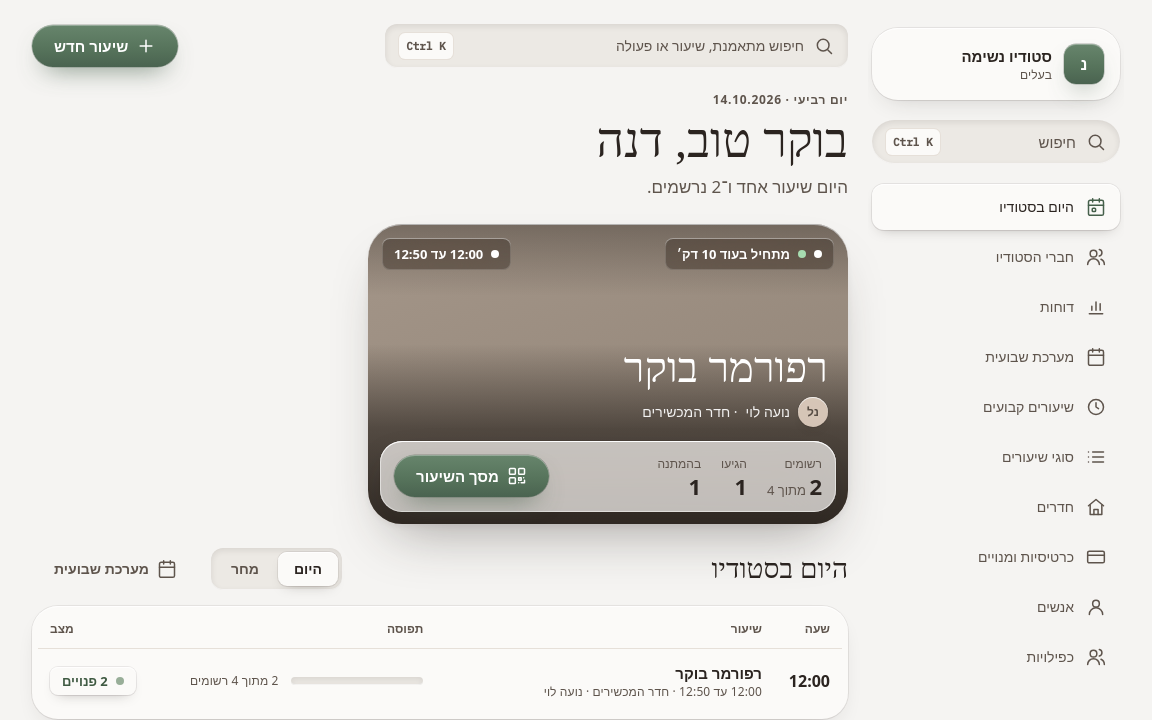
OwnerLive, the class on a screen of its own (LV-1, #378 item 2) › opens from today's live class: the clock, who came in out of who booked, and the scan at hand
This screenshot has width=1152, height=720.
Step 1. Click the link "מסך השיעור" → {"x": 472, "y": 476}, box left=394, top=455, right=549, bottom=497
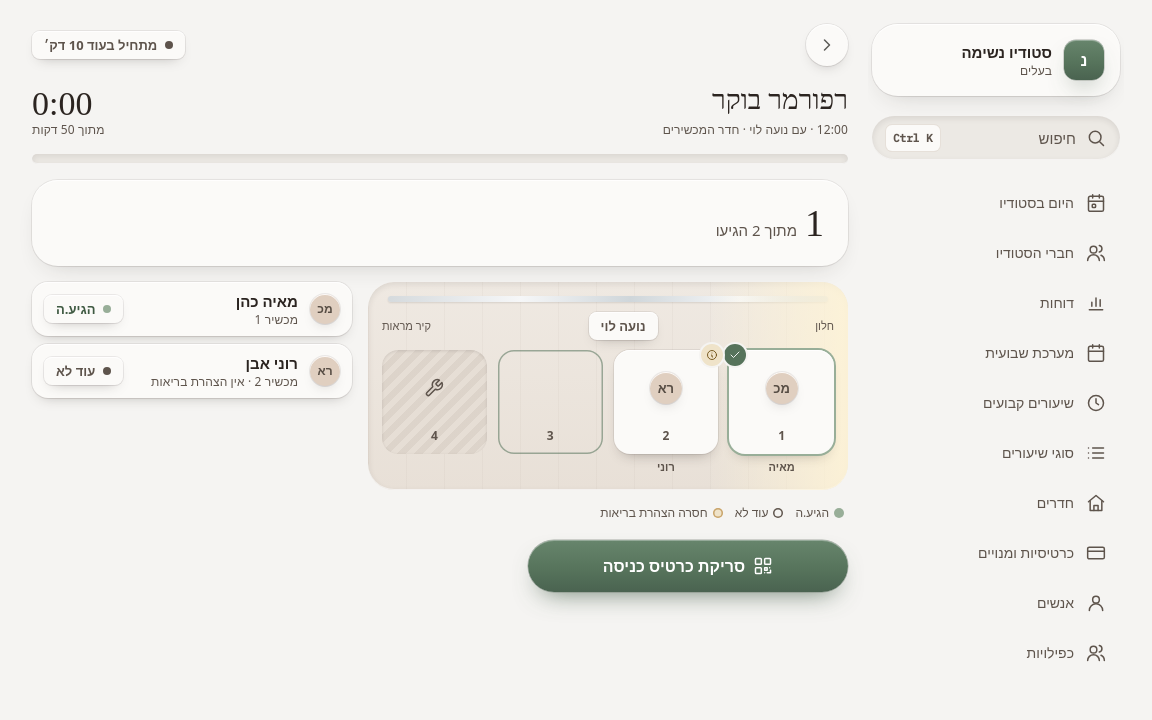
Expected: the text "12:00 · עם נועה לוי · חדר המכשירים" is shown, left=663, top=121, right=848, bottom=138
Expected: the text named "זמן מתחילת השיעור" reads "0:00", left=32, top=85, right=92, bottom=122
Expected: the text "מתוך 50 דקות" is shown, left=32, top=122, right=105, bottom=138
